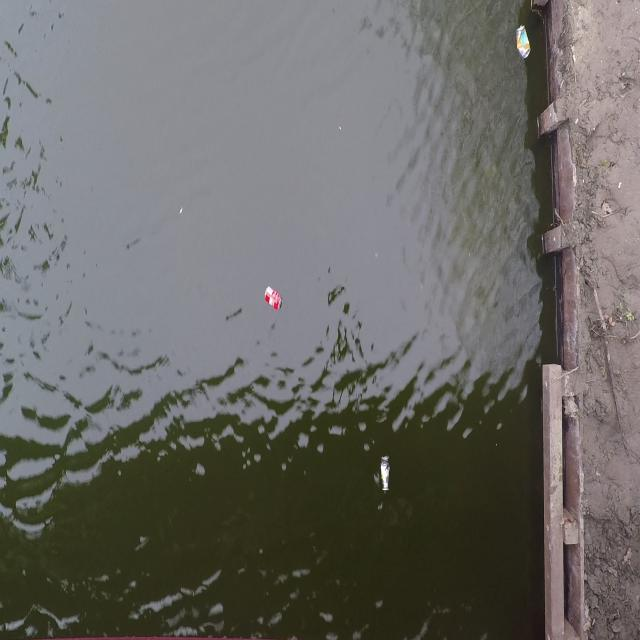Non plastique: (510, 23, 533, 64), (378, 450, 393, 500), (261, 279, 281, 315)
